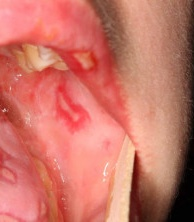SJS-TEN: (37, 77, 102, 142), (63, 46, 98, 75), (1, 144, 20, 191)
